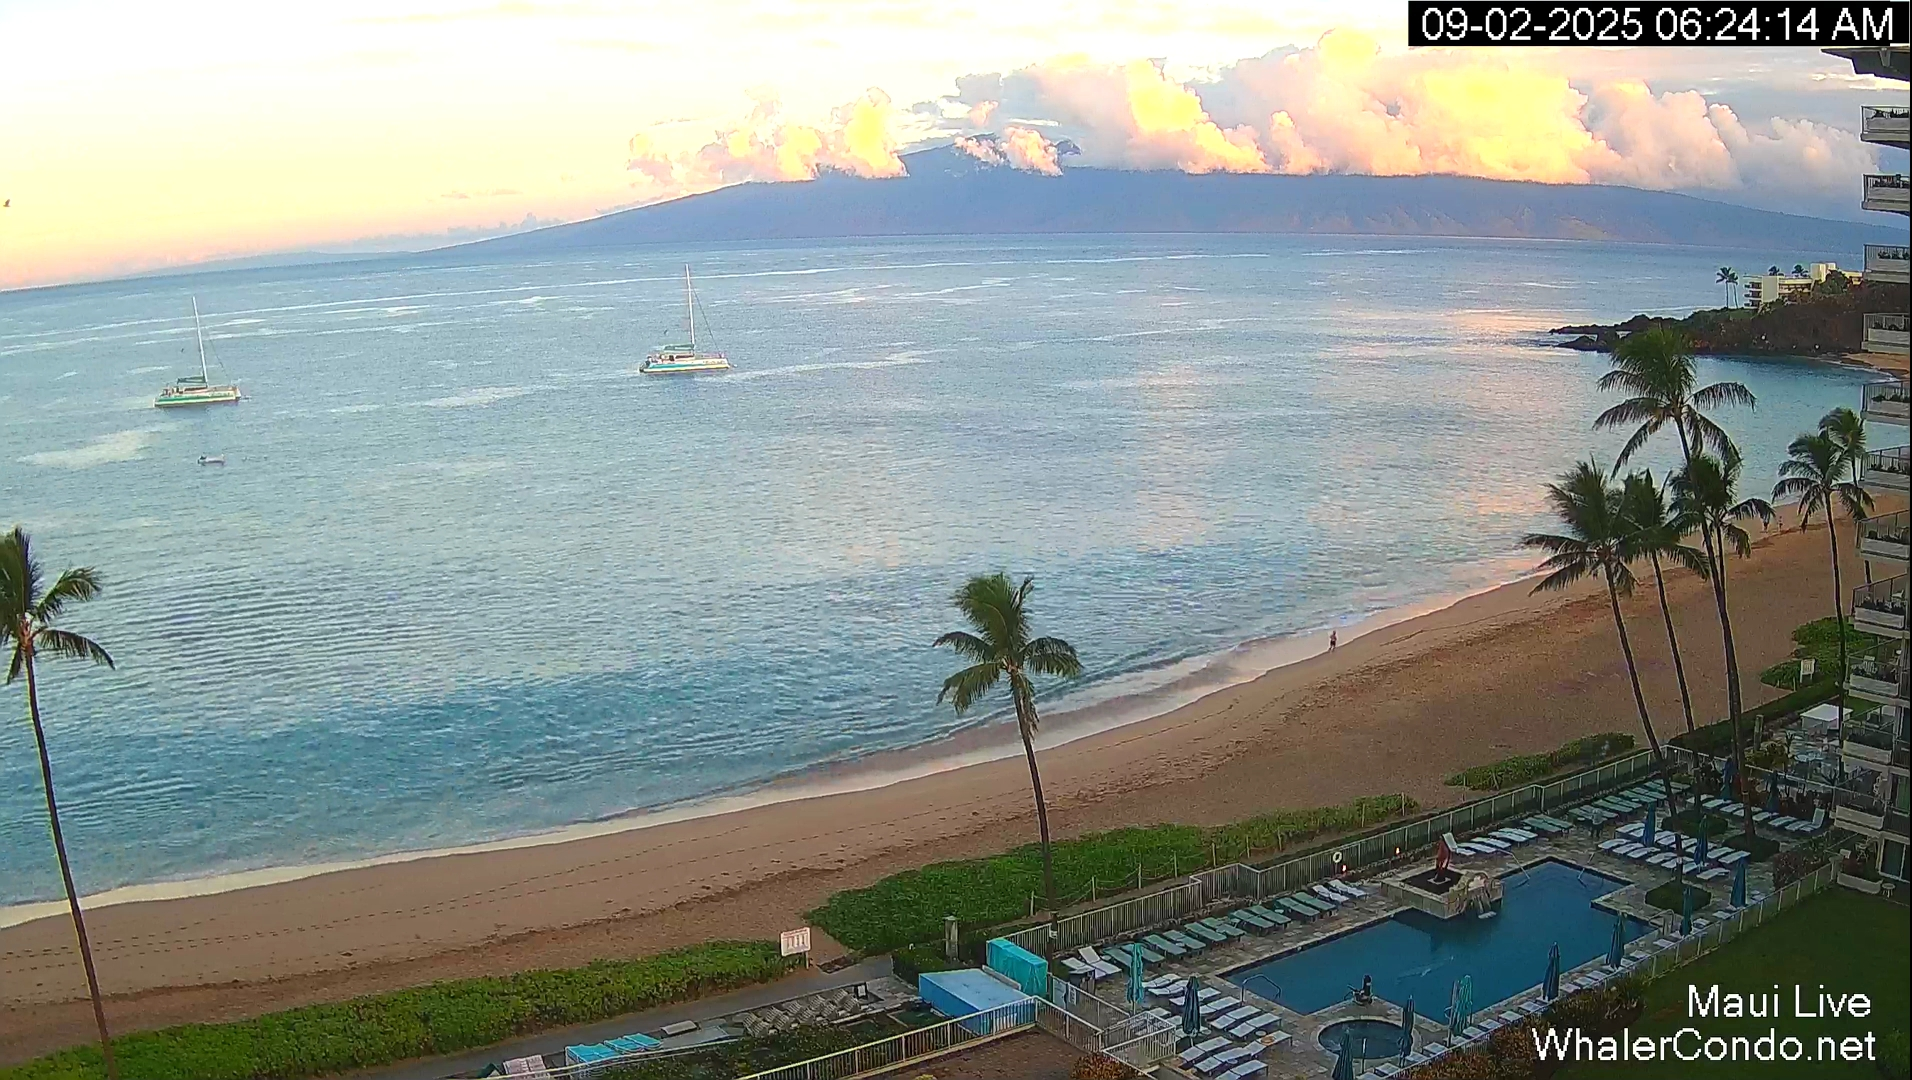boat: (638, 263, 731, 375), (153, 295, 242, 408), (639, 344, 731, 374), (154, 377, 241, 408), (197, 453, 227, 466)
person: (1328, 630, 1338, 653), (1394, 846, 1402, 859), (1329, 630, 1338, 640), (3, 199, 11, 208)
